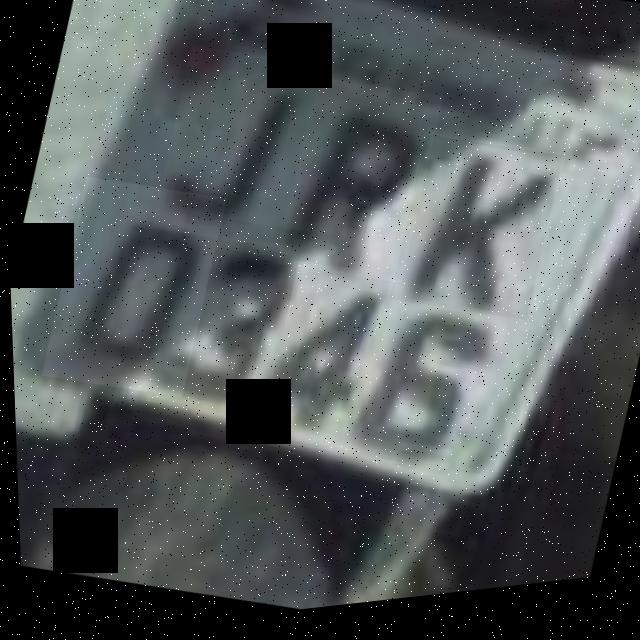0: (32, 166, 230, 413)
3: (138, 205, 331, 433)
4: (216, 242, 422, 482)
6: (319, 278, 515, 510)
J: (144, 38, 325, 265)
K: (382, 133, 565, 344)
R: (269, 73, 447, 303)
